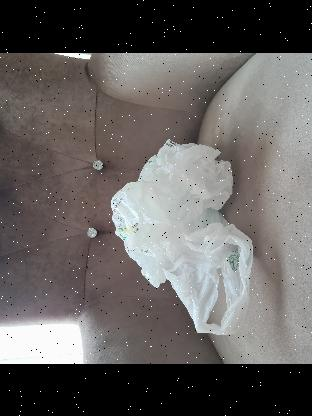Others: (112, 139, 256, 333)
